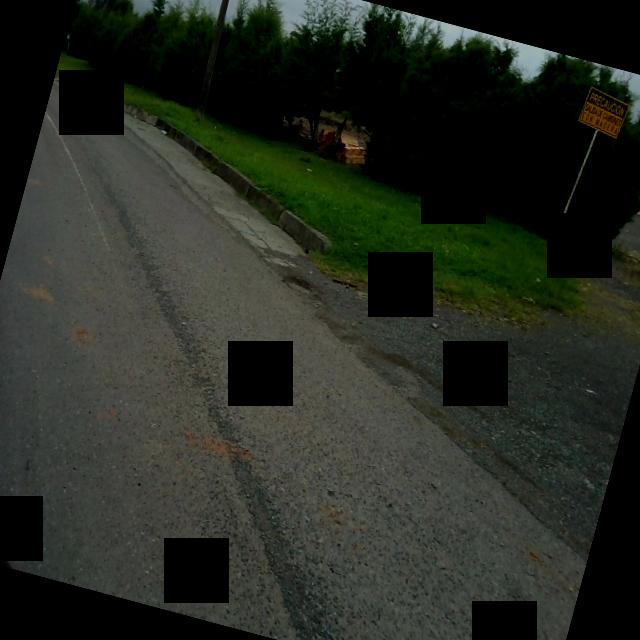DITCH: (0, 0, 640, 640), (0, 74, 640, 640), (0, 77, 640, 640)
